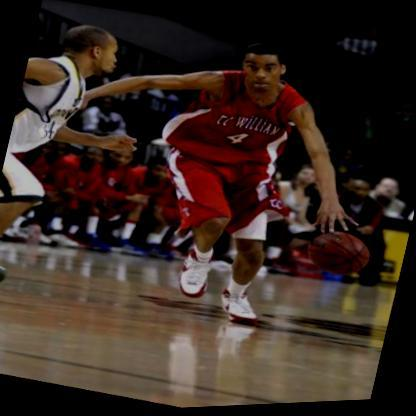basketball: (305, 227, 376, 288)
